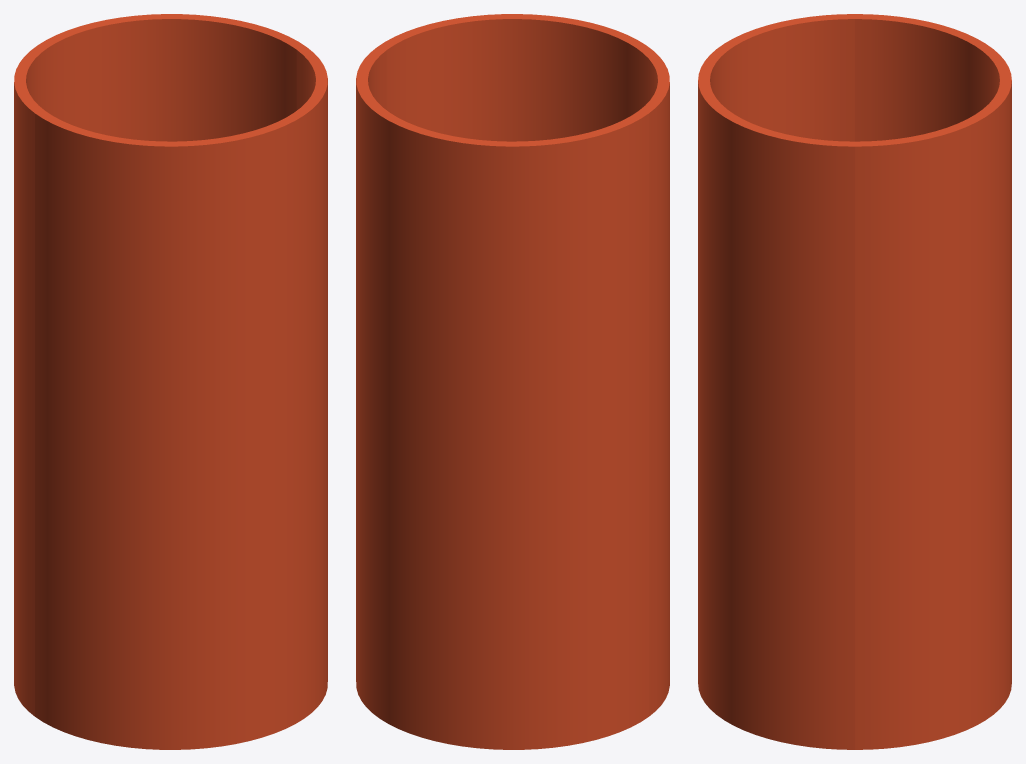
Rendered from forced_circulation_evaporator_temperature.glb.
The picture shows the model from 3 angles, left to right: view 1: azimuth 30°, elevation 25°; view 2: azimuth 150°, elevation 25°; view 3: azimuth 270°, elevation 25°; orthographic projection.
Visible parts, largest first — view 1: temperature__front, temperature__back; view 2: temperature__back, temperature__front; view 3: temperature__back, temperature__front.
Part boxes in pixels (x1,y1,x2,y2): temperature__front: (35, 47, 327, 749); temperature__back: (14, 14, 306, 716); temperature__back: (356, 47, 648, 749); temperature__front: (377, 14, 669, 716); temperature__back: (855, 14, 1011, 749); temperature__front: (698, 14, 854, 749).
Size of the model in its own units: 0.66 by 1.4 by 0.66.
